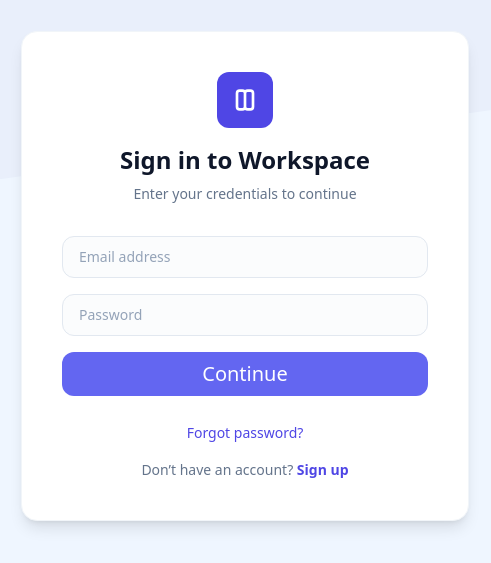
shows error for short password
The image size is (491, 563).
Type "123" into the password field labelled "Password".
click(245, 315); type("123")  # box [62,294,428,336]
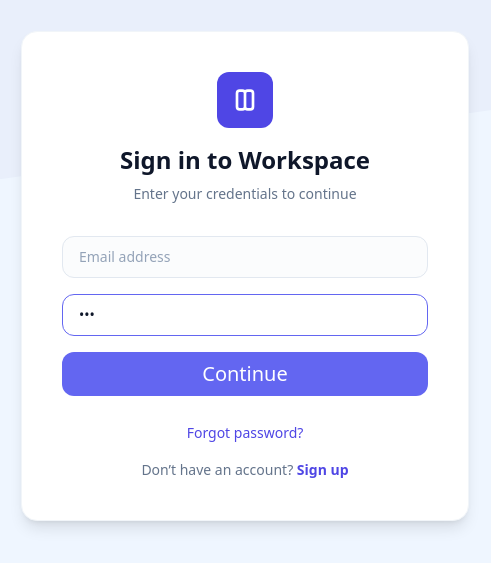
Click the button "Continue".
click(245, 374)  # box [62,352,428,396]
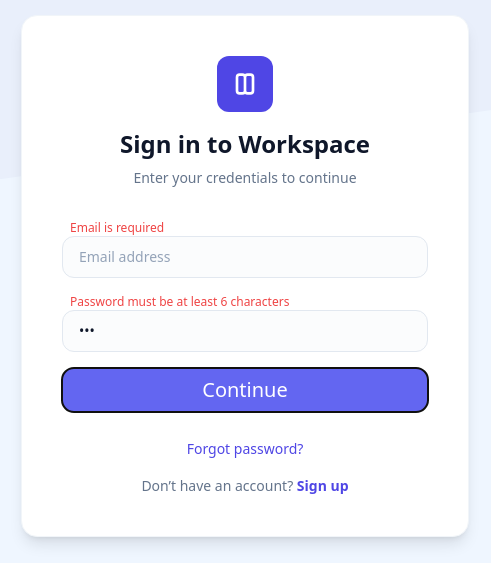
Expected: the text "Password must be at least 6 characters" is shown, [70,293,289,310]
